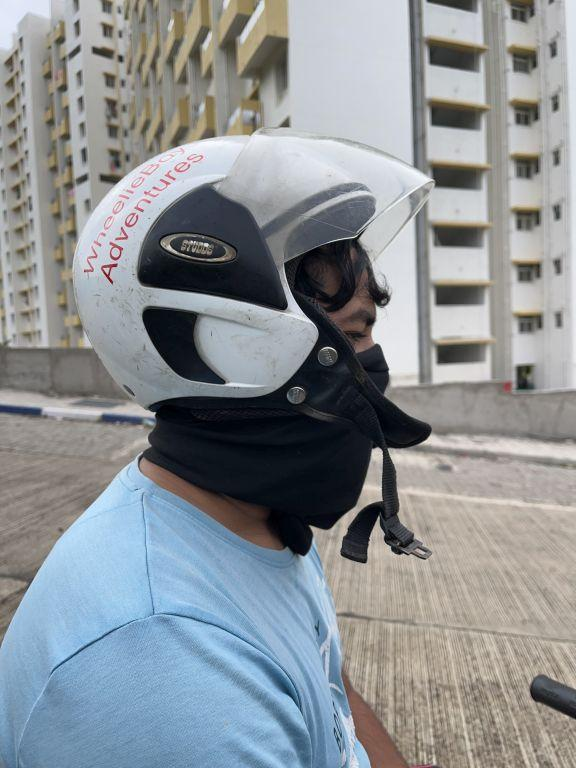helmet: (60, 124, 444, 579)
